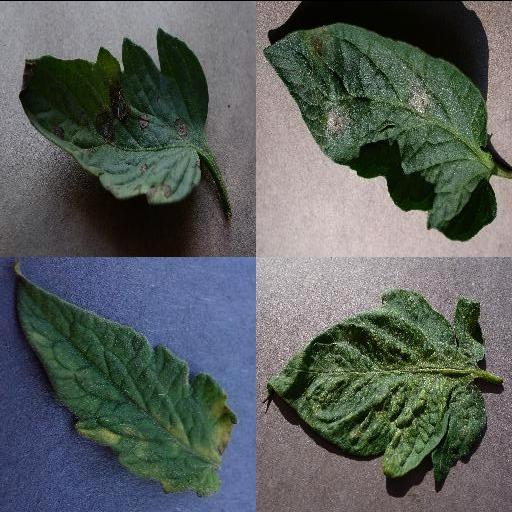Early Blight: (19, 26, 211, 203)
Late Blight: (263, 20, 497, 240)
Leaf Mold: (12, 270, 238, 494)
Spider Mites: (266, 289, 490, 490)
